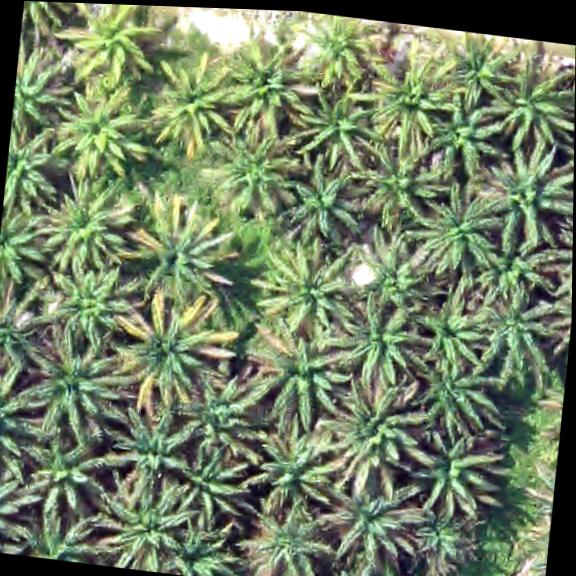oilpalm: (115, 293, 228, 417), (20, 328, 135, 449), (125, 195, 242, 309), (325, 375, 432, 495), (256, 239, 362, 346), (31, 254, 141, 357), (255, 322, 356, 434), (401, 343, 517, 439), (41, 172, 145, 279), (143, 50, 242, 160), (58, 2, 163, 103), (334, 292, 432, 397), (49, 84, 150, 185), (404, 423, 508, 521), (463, 227, 563, 322), (174, 364, 265, 467), (322, 472, 420, 565), (366, 54, 457, 154), (254, 430, 347, 523), (481, 147, 574, 240), (20, 434, 113, 526), (164, 438, 255, 528), (407, 284, 496, 376), (104, 480, 193, 572), (356, 145, 447, 233), (473, 285, 560, 377), (488, 63, 575, 154), (422, 95, 511, 183), (394, 492, 487, 576), (243, 497, 340, 576), (109, 410, 199, 494), (425, 188, 508, 279), (224, 47, 306, 139), (284, 162, 369, 249), (215, 128, 297, 218), (293, 86, 378, 170), (302, 12, 385, 97), (145, 514, 250, 576), (2, 121, 66, 216), (0, 196, 58, 293), (365, 240, 436, 317), (10, 51, 71, 140), (0, 281, 52, 378), (442, 31, 511, 103), (25, 517, 112, 566), (0, 364, 37, 473), (20, 1, 79, 44), (0, 468, 28, 555), (325, 568, 399, 576)
